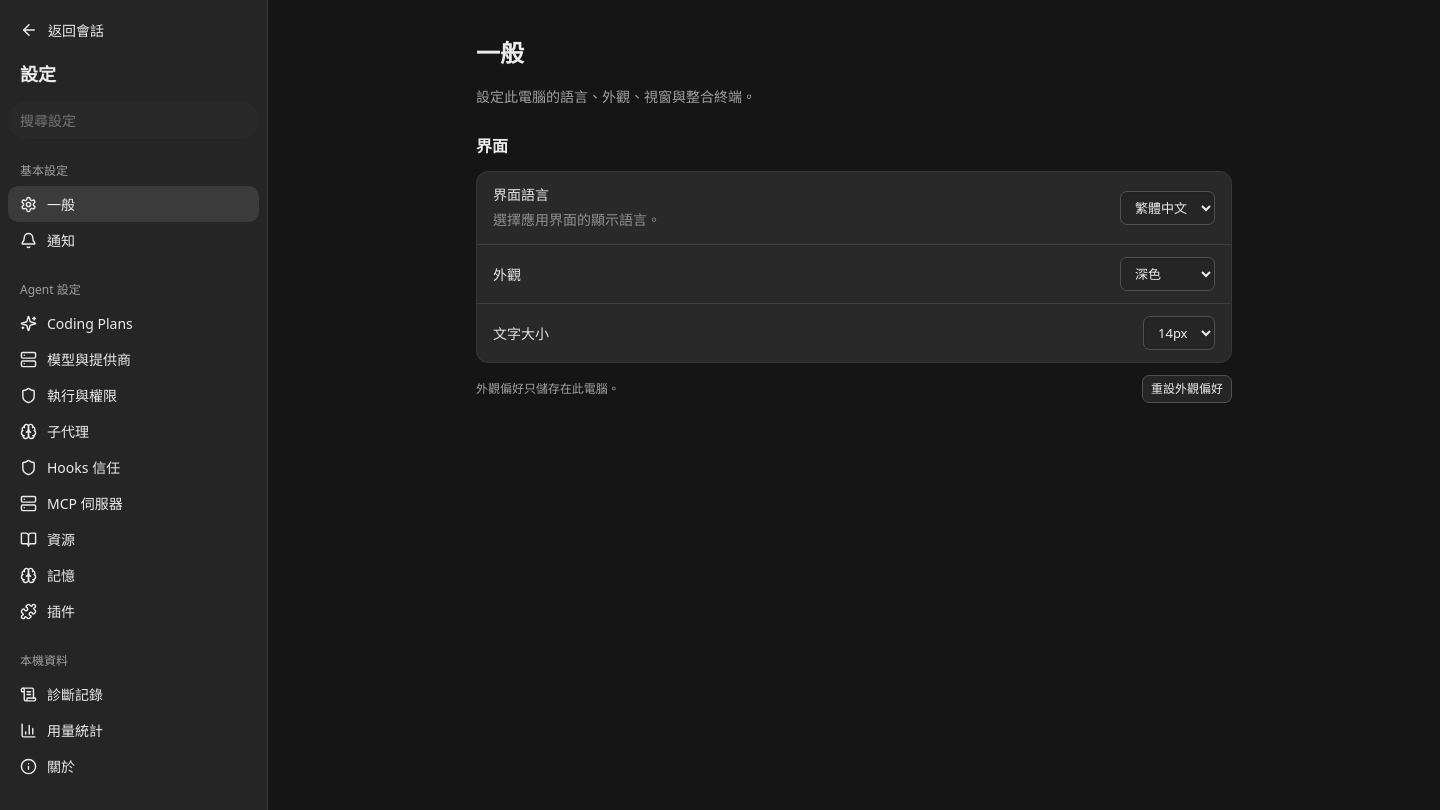
finds WSL through field and function aliases
This screenshot has width=1440, height=810.
In the search field labelled "搜尋設定": coordinates (134, 120) [8,102,259,139], type "WSL"
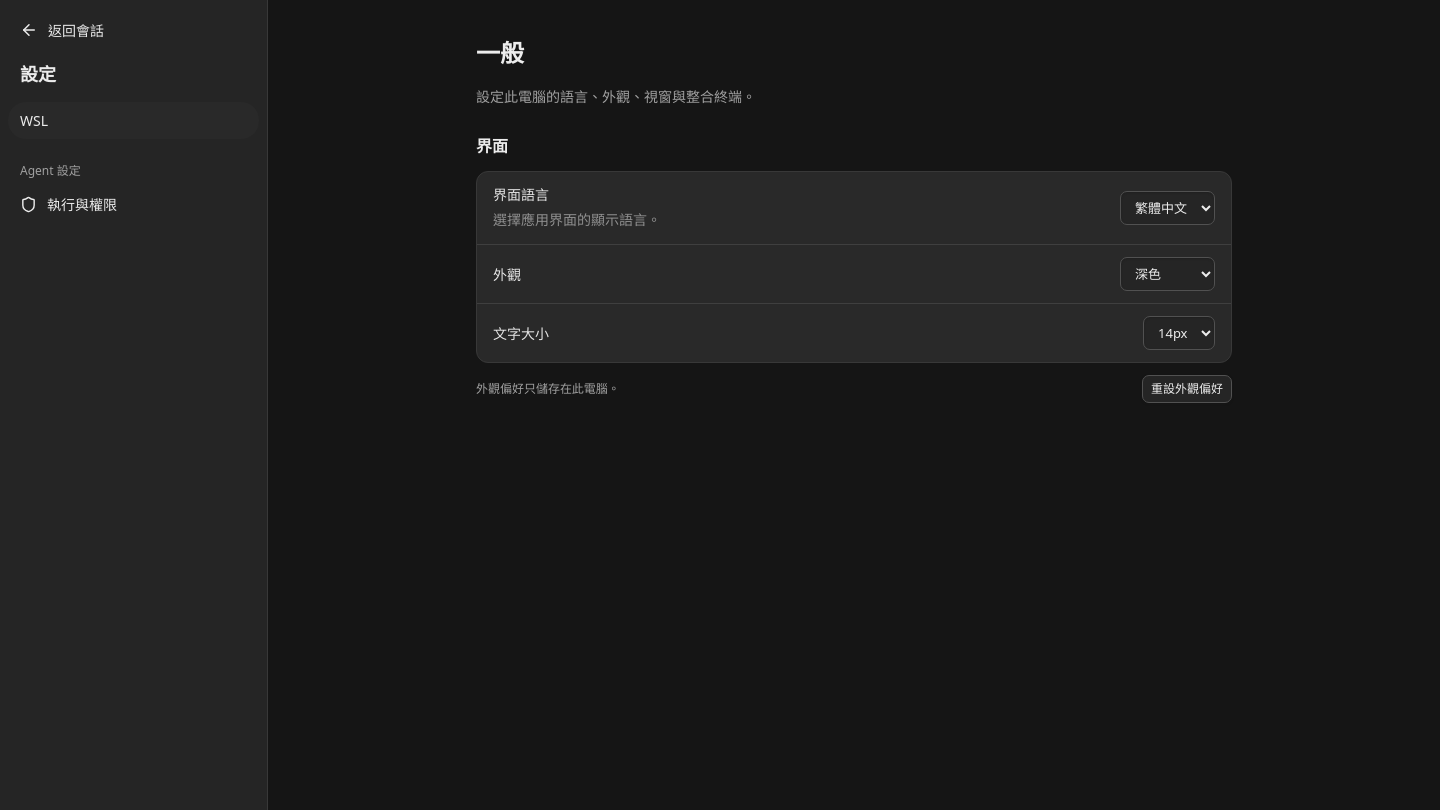
Expected: the button "執行與權限" is shown, [8,186,259,222]
Now the button "關於" is gone
